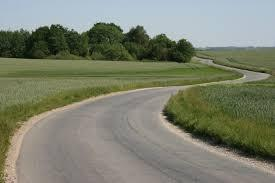field: (166, 81, 274, 160)
road: (5, 58, 274, 182)
